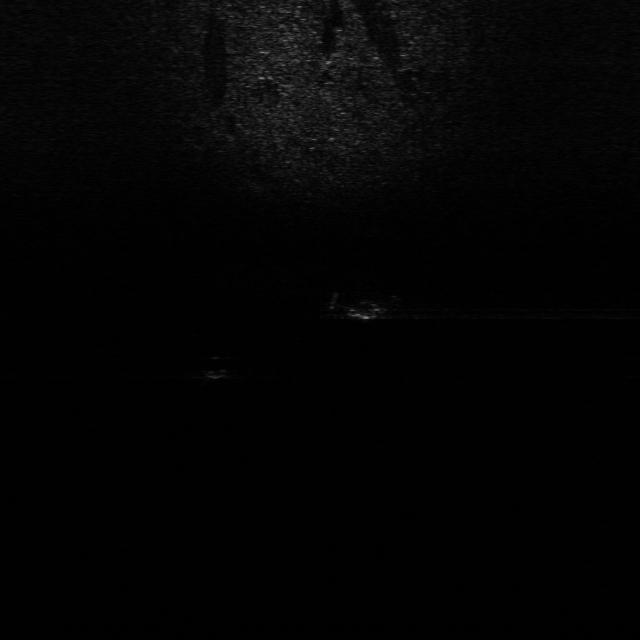ball: (200, 351, 240, 385)
human body: (319, 289, 402, 325)
